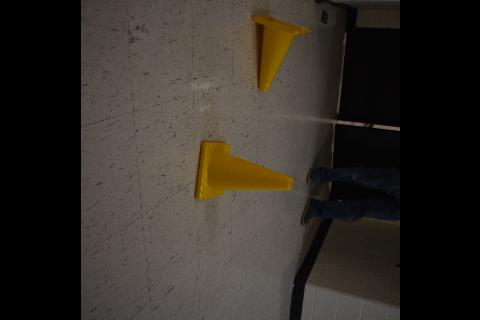cone: (195, 140, 293, 200), (250, 15, 308, 91)
